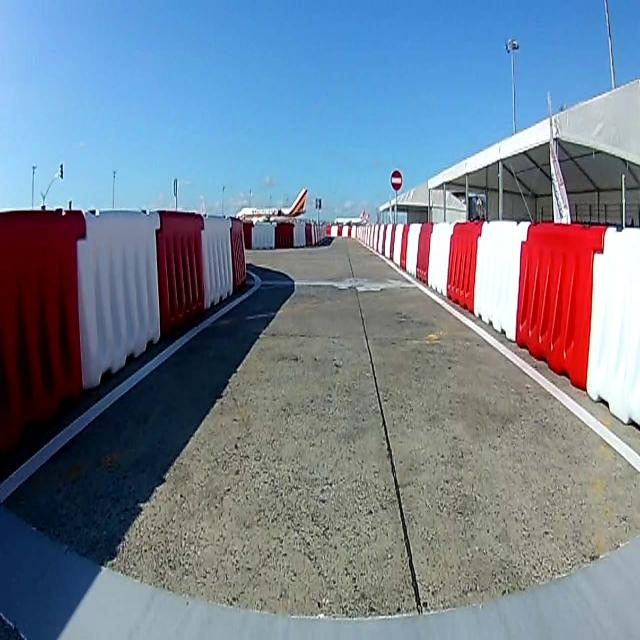girisyok: (388, 169, 404, 191)
